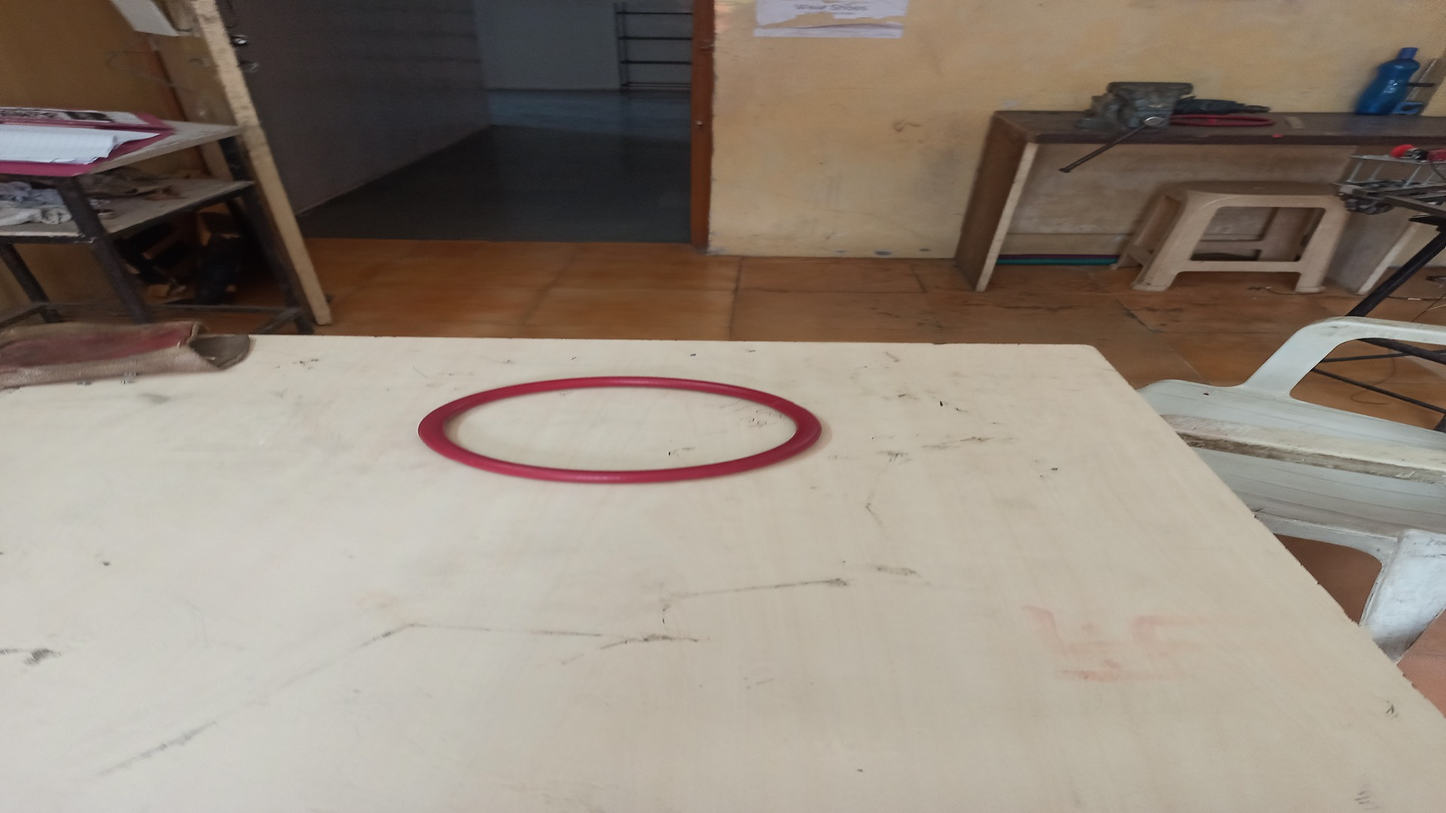Red ring: (420, 378, 822, 481)
